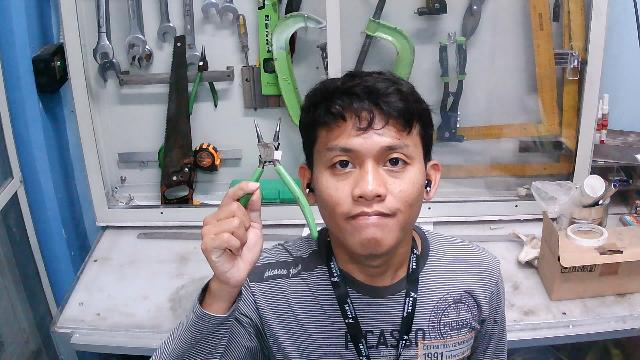tang_cucut_lancip_1: (221, 113, 324, 250)
